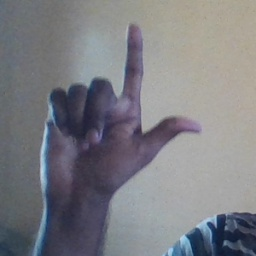L: (35, 21, 205, 203)
